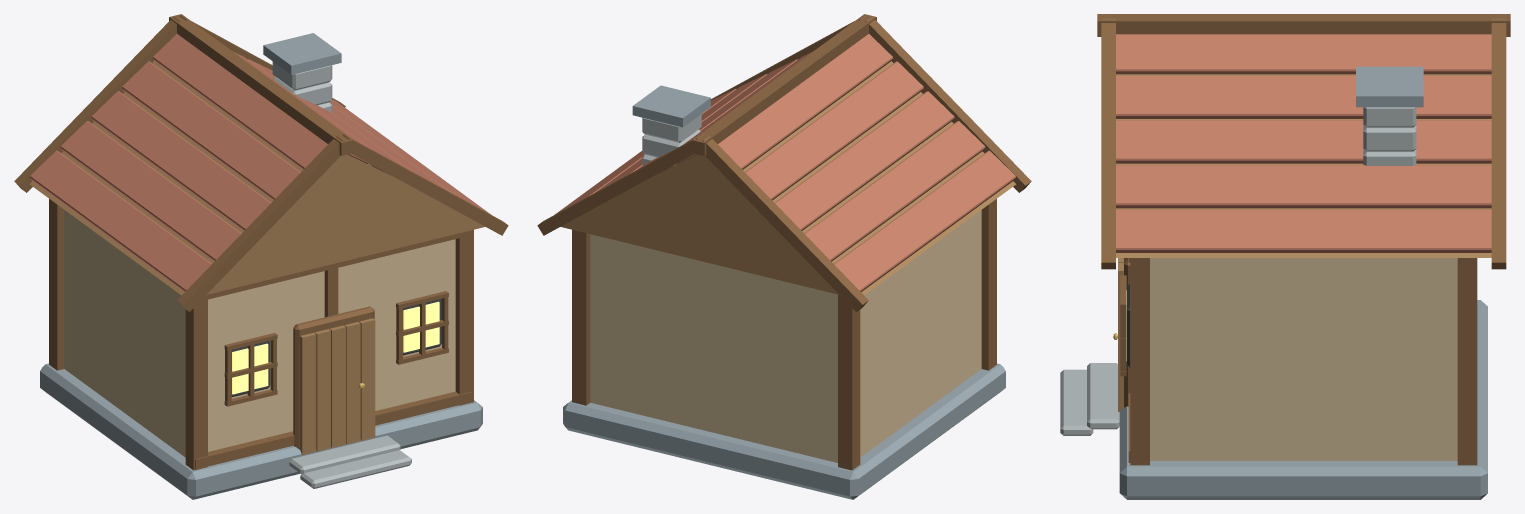
File: HouseRed.glb
The picture shows the model from 3 angles, left to right: view 1: azimuth 30°, elevation 25°; view 2: azimuth 150°, elevation 25°; view 3: azimuth 270°, elevation 25°; orthographic projection. The views are drawn at different scales.
Visible parts, largest first — view 1: PlasterWalls, Gable, StoneFoundation, Ridge, GableTrim, CornerPost, CornerPost.001, CrossTimber, GableTrim.001, CornerPost.002, GableTrim.002, ChimneyCap (+45 smaller); view 2: PlasterWalls, Gable, StoneFoundation, Ridge, GableTrim.001, CornerPost.002, CornerPost.003, GableTrim, CornerPost, GableTrim.003, ChimneyCap, RoofShingle.014 (+32 smaller); view 3: PlasterWalls, StoneFoundation, Ridge, Gable, CornerPost.003, CornerPost.001, GableTrim.003, GableTrim.002, ChimneyCap, RoofShingle.051, RoofShingle.057, RoofShingle.037 (+32 smaller).
Boxes of the visible parts, x1=… form: PlasterWalls: x1=64, y1=210, x2=455, y2=457; Gable: x1=29, y1=61, x2=485, y2=295; StoneFoundation: x1=40, y1=363, x2=482, y2=499; Ridge: x1=169, y1=14, x2=353, y2=155; GableTrim: x1=177, y1=135, x2=342, y2=311; CornerPost: x1=185, y1=299, x2=207, y2=470; CornerPost.001: x1=455, y1=229, x2=473, y2=405; CrossTimber: x1=195, y1=391, x2=473, y2=469; GableTrim.001: x1=14, y1=17, x2=180, y2=192; CornerPost.002: x1=49, y1=199, x2=64, y2=370; GableTrim.002: x1=342, y1=134, x2=508, y2=235; ChimneyCap: x1=263, y1=33, x2=341, y2=74; PlasterWalls: x1=590, y1=210, x2=981, y2=462; Gable: x1=560, y1=61, x2=1016, y2=295; StoneFoundation: x1=563, y1=363, x2=1005, y2=499; Ridge: x1=692, y1=14, x2=876, y2=155; GableTrim.001: x1=703, y1=135, x2=868, y2=311; CornerPost.002: x1=838, y1=294, x2=860, y2=470; CornerPost.003: x1=572, y1=229, x2=590, y2=405; GableTrim: x1=865, y1=17, x2=1031, y2=192; CornerPost: x1=981, y1=199, x2=996, y2=370; GableTrim.003: x1=537, y1=134, x2=703, y2=235; ChimneyCap: x1=632, y1=85, x2=710, y2=127; RoofShingle.014: x1=849, y1=129, x2=902, y2=177; PlasterWalls: x1=1150, y1=258, x2=1457, y2=460; StoneFoundation: x1=1119, y1=300, x2=1487, y2=499; Ridge: x1=1097, y1=14, x2=1510, y2=36; Gable: x1=1116, y1=74, x2=1491, y2=257; CornerPost.003: x1=1457, y1=258, x2=1477, y2=465; CornerPost.001: x1=1130, y1=258, x2=1149, y2=465; GableTrim.003: x1=1491, y1=18, x2=1506, y2=269; GableTrim.002: x1=1101, y1=18, x2=1115, y2=269; ChimneyCap: x1=1356, y1=66, x2=1423, y2=107; RoofShingle.051: x1=1303, y1=165, x2=1367, y2=208; RoofShingle.057: x1=1303, y1=209, x2=1367, y2=252; RoofShingle.037: x1=1177, y1=75, x2=1240, y2=118.
Size of the model in its own units: 11.02 by 10.79 by 11.
